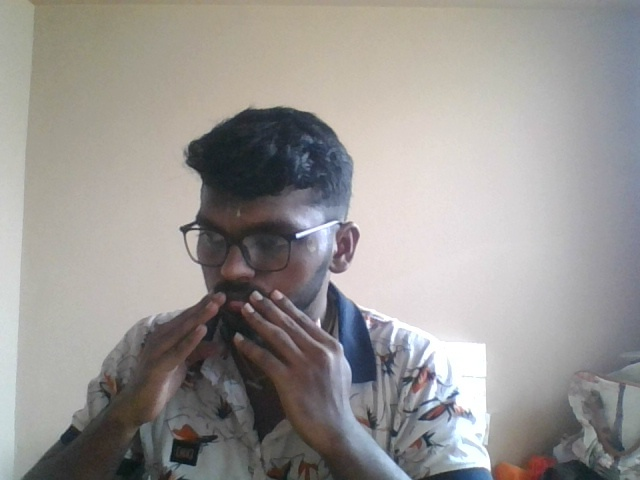Thank you: (120, 274, 367, 454)
